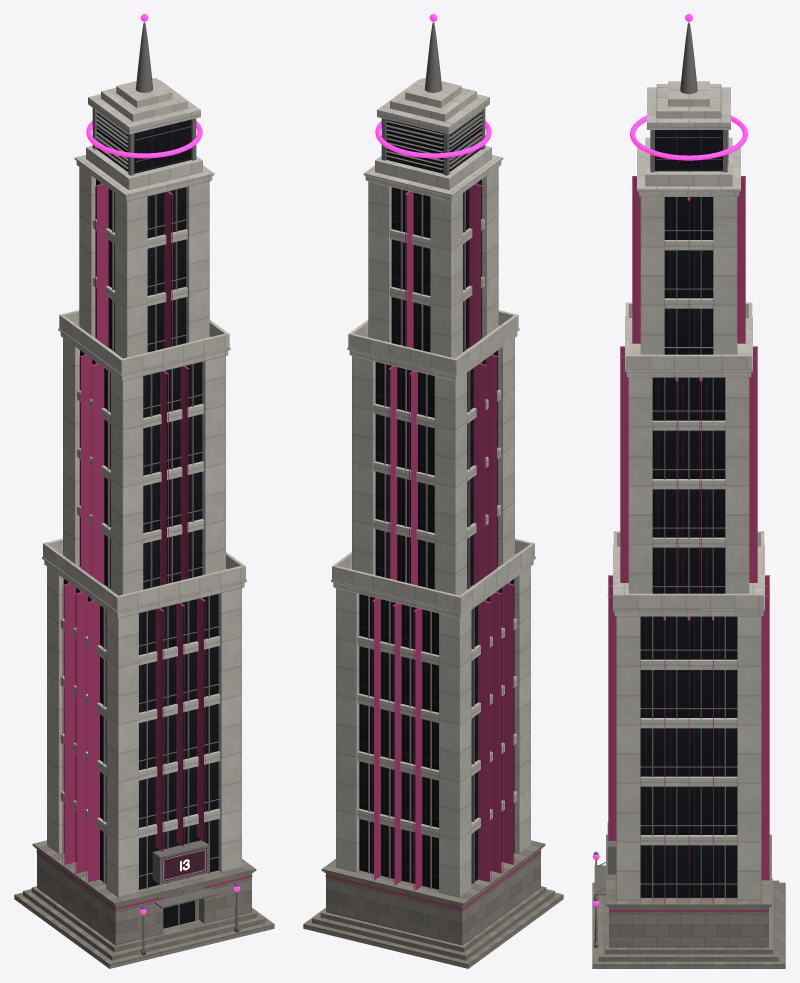
File: s33-infogurus.glb
3 views of the same model, side by side, from view 1: azimuth 30°, elevation 25°; view 2: azimuth 150°, elevation 25°; view 3: azimuth 270°, elevation 25° (orthographic).
Visible parts, largest first — view 1: Landmark · InfoGurus (Series 33); view 2: Landmark · InfoGurus (Series 33); view 3: Landmark · InfoGurus (Series 33).
Part boxes in pixels (x1=…): Landmark · InfoGurus (Series 33): x1=14, y1=14, x2=274, y2=968; Landmark · InfoGurus (Series 33): x1=303, y1=14, x2=563, y2=968; Landmark · InfoGurus (Series 33): x1=592, y1=14, x2=785, y2=968.
Bounding box in the file's own units: 12 × 62.5 × 12.
7 materials, 4 textured.
